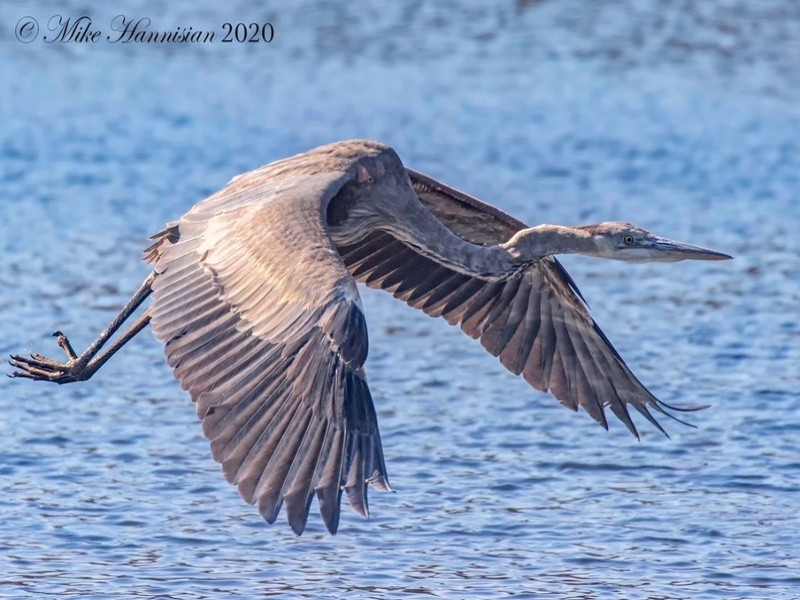heron: (11, 134, 735, 540)
